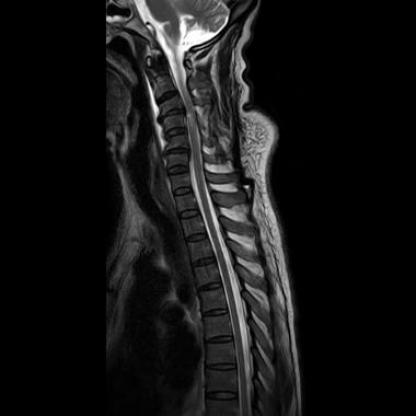Disc Protrusionrotation: (157, 105, 188, 123)
